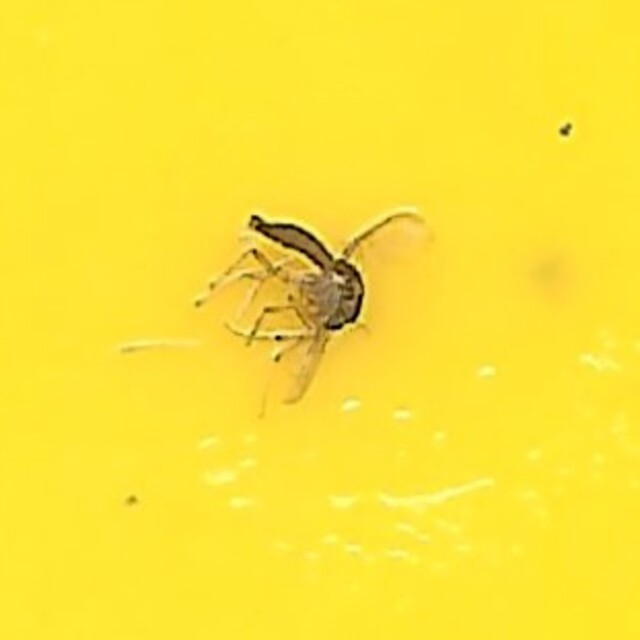Nematocera: (206, 207, 434, 433)
